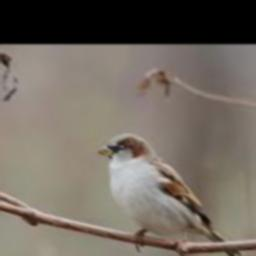Sparrow: (97, 133, 243, 256)
